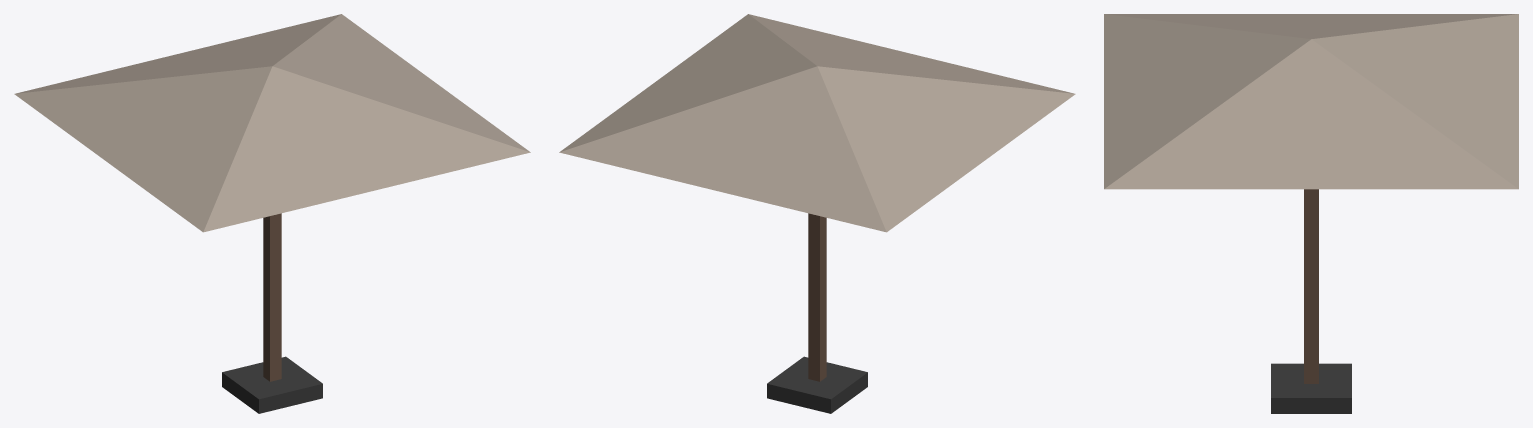
Rendered from Umbrella_01.fbx.
3 renders of one model, left to right at view 1: azimuth 30°, elevation 25°; view 2: azimuth 150°, elevation 25°; view 3: azimuth 270°, elevation 25°, orthographic. The views are drawn at different scales.
Visible parts, largest first — view 1: Umbrella_01; view 2: Umbrella_01; view 3: Umbrella_01.
Boxes of the visible parts, bbox=[...] form: Umbrella_01: bbox=[14, 14, 530, 413]; Umbrella_01: bbox=[559, 14, 1075, 413]; Umbrella_01: bbox=[1104, 14, 1518, 413].
Bounding box in the file's own units: 300 × 285 × 300.
